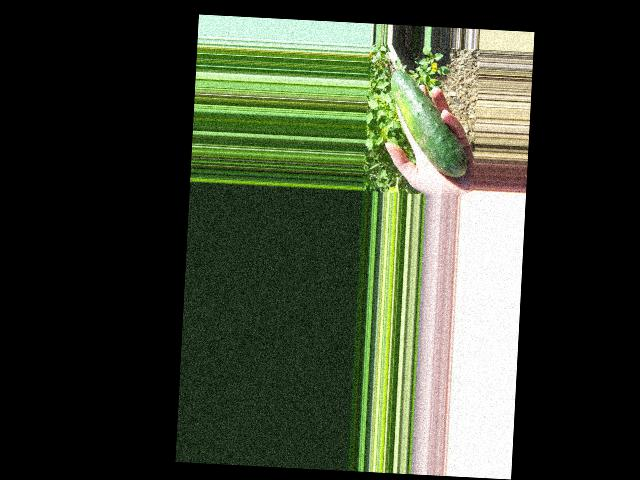cucumber: (386, 69, 471, 177)
